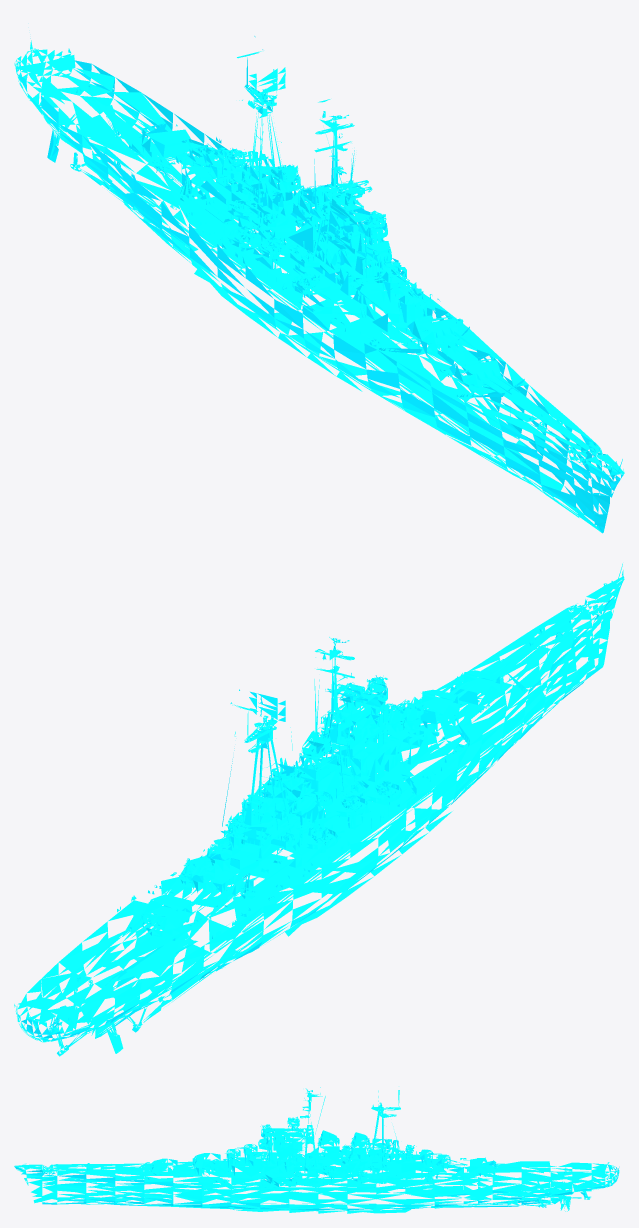
The model's file is PRSC910.glb.
The picture shows the model from 3 angles, top to bottom: view 1: azimuth 30°, elevation 25°; view 2: azimuth 150°, elevation 25°; view 3: azimuth 270°, elevation 25°; orthographic projection. The views are drawn at different scales.
Visible parts, largest first — view 1: hull, turret; view 2: hull, turret; view 3: hull, turret.
Boxes of the visible parts, x1,y1,x2,y2 form: hull: (14, 36, 624, 533); turret: (189, 141, 426, 303); hull: (14, 563, 624, 1056); turret: (187, 697, 423, 882); hull: (14, 1087, 619, 1213); turret: (225, 1144, 450, 1179).
Size of the model in its own units: 1.73 by 3.71 by 16.98.
